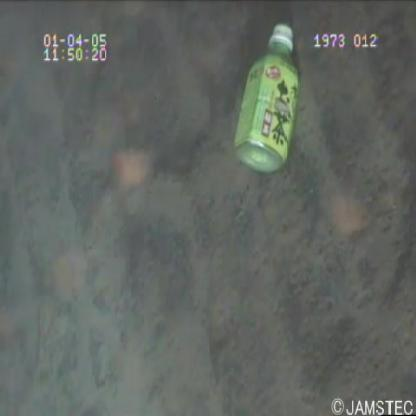Rác: (229, 19, 308, 176)
